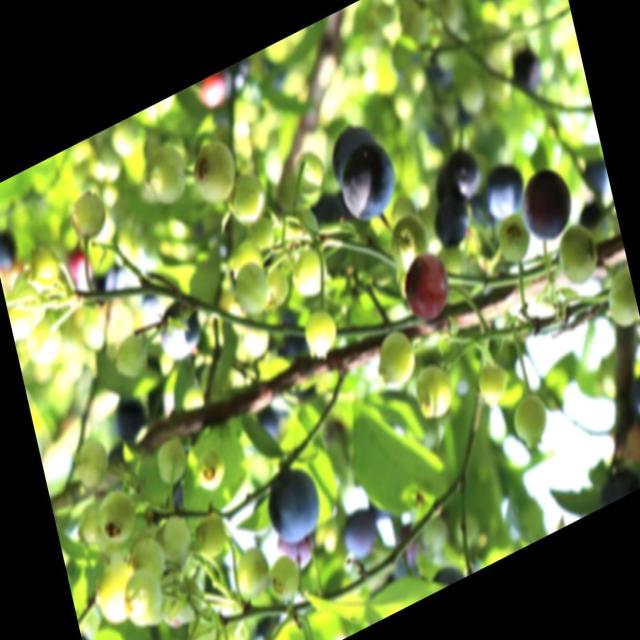blueberry: (334, 131, 401, 228), (261, 457, 325, 552), (514, 158, 576, 252), (322, 113, 381, 191), (155, 295, 205, 368), (481, 162, 526, 226), (439, 144, 484, 207), (432, 192, 476, 253), (339, 504, 384, 563)
blueberry-halfripe: (400, 244, 454, 327)
blueberry-unripe: (90, 556, 142, 628), (596, 258, 640, 340), (384, 204, 434, 275), (228, 251, 275, 324), (554, 219, 601, 292), (142, 138, 190, 209), (192, 134, 239, 206), (93, 481, 140, 546), (121, 562, 167, 628), (374, 325, 418, 393), (21, 309, 66, 375), (20, 235, 64, 302), (412, 359, 456, 425), (152, 509, 196, 572), (224, 164, 266, 230), (66, 185, 110, 246), (71, 431, 114, 492), (288, 243, 332, 301), (509, 386, 552, 445), (232, 542, 273, 602), (300, 304, 342, 362), (494, 207, 534, 267), (188, 506, 230, 562), (112, 324, 153, 381), (290, 144, 329, 200), (155, 428, 191, 488), (268, 551, 303, 604), (260, 266, 292, 317), (194, 446, 226, 496), (476, 361, 508, 408), (228, 235, 262, 278), (148, 636, 194, 639)
